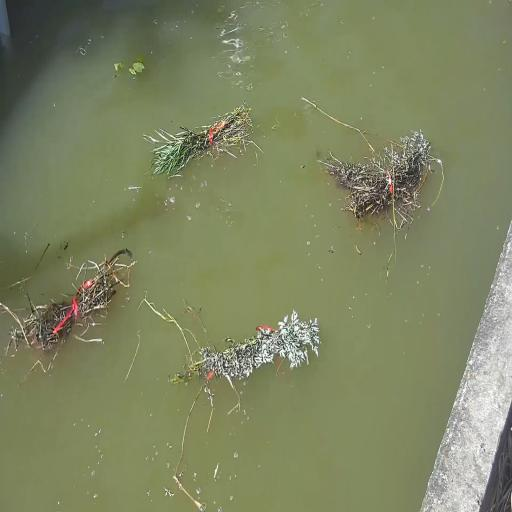twig: (177, 298, 321, 398), (332, 112, 435, 226), (149, 96, 259, 187), (15, 258, 116, 354), (110, 54, 150, 82)
